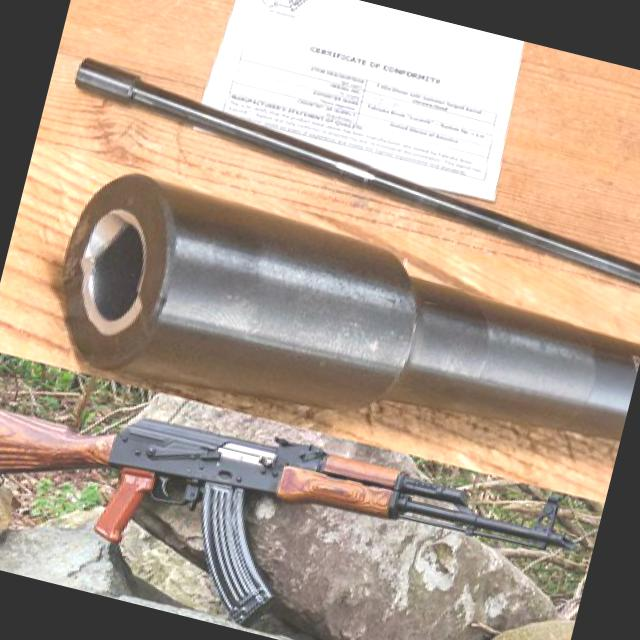long weapon: (0, 356, 582, 639)
